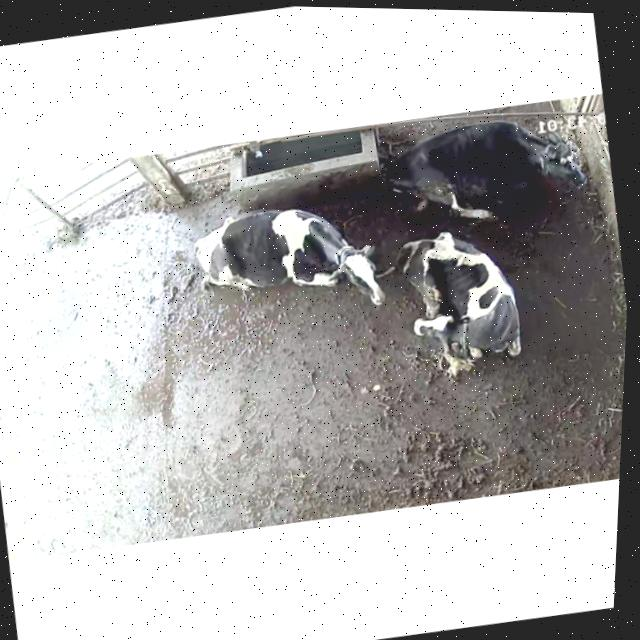lay: (161, 179, 393, 353), (372, 213, 550, 399), (372, 102, 599, 234)
